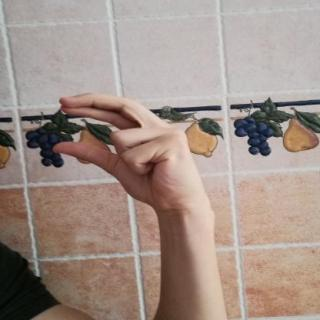DHELL: (43, 87, 212, 211)
